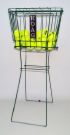tennis ball: (14, 40, 22, 50), (21, 40, 30, 47), (48, 33, 55, 42), (13, 29, 20, 37), (21, 29, 29, 36), (45, 42, 52, 50), (36, 41, 43, 48), (36, 31, 42, 39), (43, 28, 48, 37), (31, 40, 35, 49), (22, 37, 31, 40), (44, 38, 49, 43), (13, 38, 20, 40)
